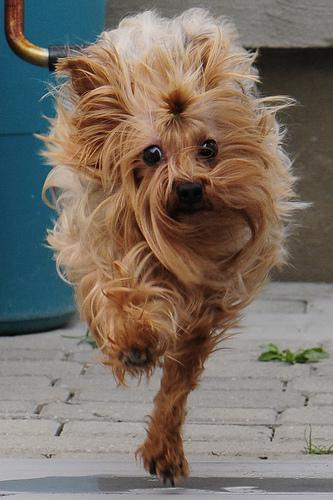dog-yorkshire_terrier: (69, 58, 255, 227)
